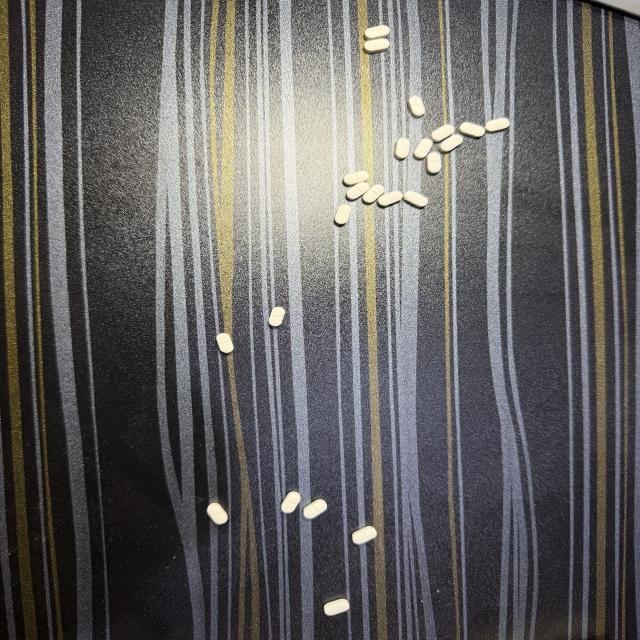pill: (207, 502, 228, 526), (303, 499, 327, 519), (352, 526, 377, 545), (324, 599, 349, 616), (281, 491, 300, 513), (459, 122, 485, 138), (346, 182, 369, 200), (403, 191, 427, 208), (363, 185, 384, 204), (439, 135, 462, 152), (364, 25, 389, 40), (344, 171, 369, 186), (364, 38, 389, 53), (432, 125, 454, 142), (378, 191, 402, 206), (414, 139, 432, 159), (216, 333, 233, 353), (485, 118, 509, 132), (408, 96, 424, 117), (269, 307, 285, 327), (427, 152, 441, 174), (335, 205, 350, 225), (395, 138, 409, 159)
